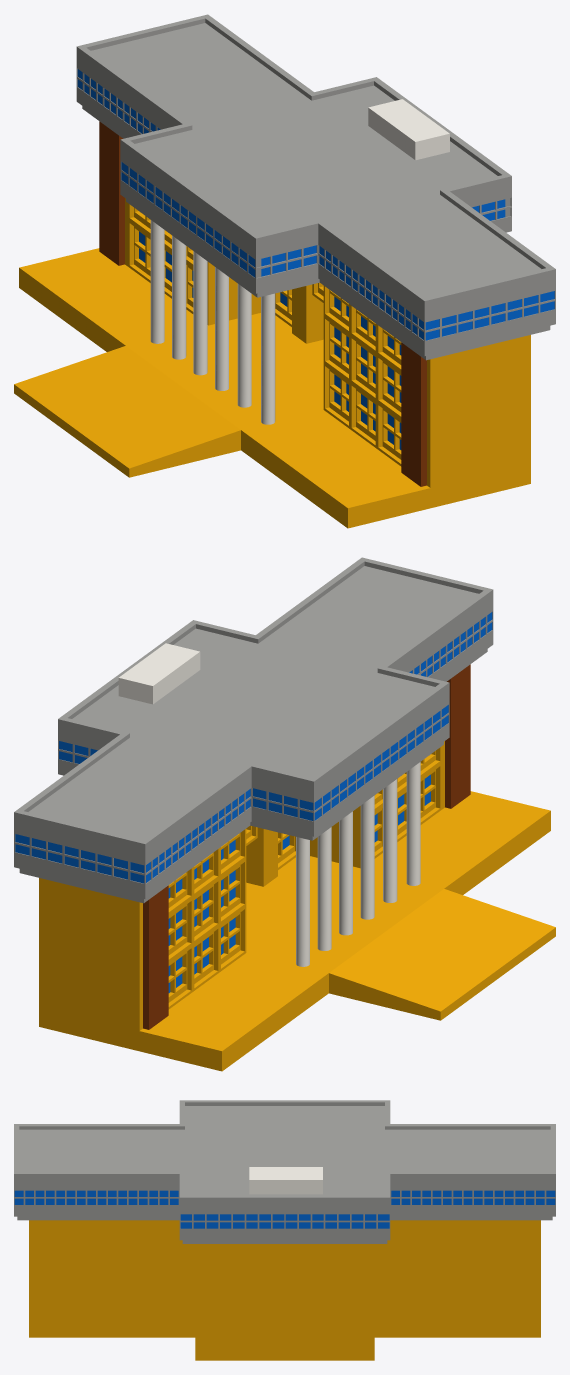
3 renders of one model, top to bottom at view 1: azimuth 30°, elevation 25°; view 2: azimuth 150°, elevation 25°; view 3: azimuth 270°, elevation 25°, orthographic. The views are drawn at different scales.
Visible parts, largest first — view 1: Cube_11, Cube_10, Cube_17, Cube_18, Cube_12, Cylinder, Cylinder_5, Cylinder_3, Cylinder_1, Cylinder_2, Cylinder_4, Cube_14 (+1 smaller); view 2: Cube_11, Cube_10, Cube_18, Cube_16, Cube_12, Cylinder_1, Cylinder_4, Cylinder_5, Cylinder_2, Cylinder, Cylinder_3, Cube_15 (+1 smaller); view 3: Cube_10, Cube_11, Cube_18, Cube_17, Cube_16, Cube_12.
Part boxes in pixels (x1=…): Cube_11: x1=76, y1=14, x2=555, y2=360; Cube_10: x1=14, y1=121, x2=530, y2=528; Cube_17: x1=319, y1=246, x2=554, y2=340; Cube_18: x1=121, y1=162, x2=505, y2=277; Cube_12: x1=368, y1=99, x2=449, y2=160; Cylinder: x1=261, y1=293, x2=275, y2=424; Cylinder_5: x1=237, y1=283, x2=251, y2=407; Cylinder_3: x1=193, y1=251, x2=207, y2=375; Cylinder_1: x1=150, y1=220, x2=164, y2=343; Cylinder_2: x1=172, y1=235, x2=186, y2=359; Cylinder_4: x1=215, y1=267, x2=228, y2=390; Cube_14: x1=334, y1=296, x2=401, y2=449; Cube_11: x1=14, y1=557, x2=493, y2=903; Cube_10: x1=39, y1=664, x2=555, y2=1071; Cube_18: x1=59, y1=705, x2=448, y2=820; Cube_16: x1=15, y1=789, x2=250, y2=883; Cube_12: x1=118, y1=643, x2=200, y2=704; Cylinder_1: x1=296, y1=837, x2=309, y2=966; Cylinder_4: x1=360, y1=795, x2=374, y2=919; Cylinder_5: x1=383, y1=779, x2=397, y2=902; Cylinder_2: x1=317, y1=827, x2=331, y2=950; Cylinder: x1=406, y1=762, x2=420, y2=885; Cylinder_3: x1=339, y1=811, x2=352, y2=935; Cube_15: x1=168, y1=839, x2=235, y2=992; Cube_10: x1=29, y1=1220, x2=540, y2=1360; Cube_11: x1=14, y1=1100, x2=555, y2=1243; Cube_18: x1=180, y1=1214, x2=389, y2=1228; Cube_17: x1=14, y1=1190, x2=178, y2=1204; Cube_16: x1=391, y1=1190, x2=555, y2=1204; Cube_12: x1=249, y1=1167, x2=322, y2=1194.
Bounding box in the file's own units: 613 × 365 × 992.
